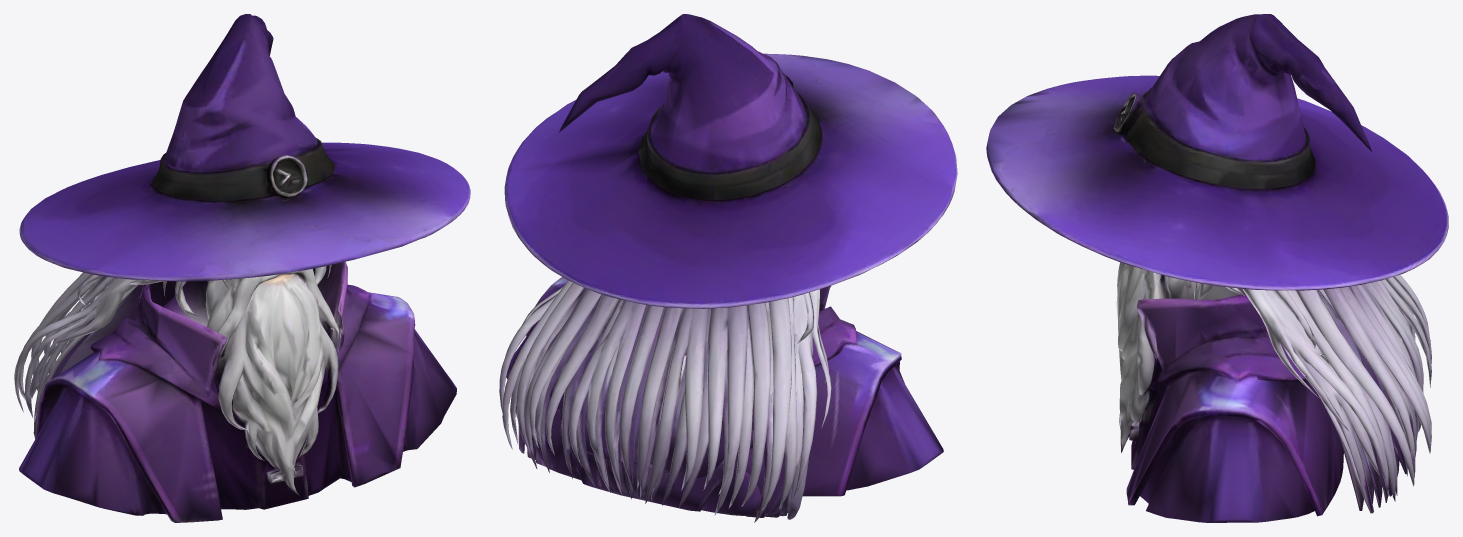
The model's file is mors.glb.
3 renders of one model, left to right at view 1: azimuth 30°, elevation 25°; view 2: azimuth 150°, elevation 25°; view 3: azimuth 270°, elevation 25°, orthographic. The views are drawn at different scales.
Visible parts, largest first — view 1: node_0; view 2: node_0; view 3: node_0.
Part boxes in pixels (bbox=[...]): node_0: bbox=[14, 14, 470, 522]; node_0: bbox=[499, 14, 957, 522]; node_0: bbox=[986, 14, 1448, 522].
Size of the model in its own units: 0.9215 by 0.9242 by 0.847.
Materials: 1 (1 with a texture image).
